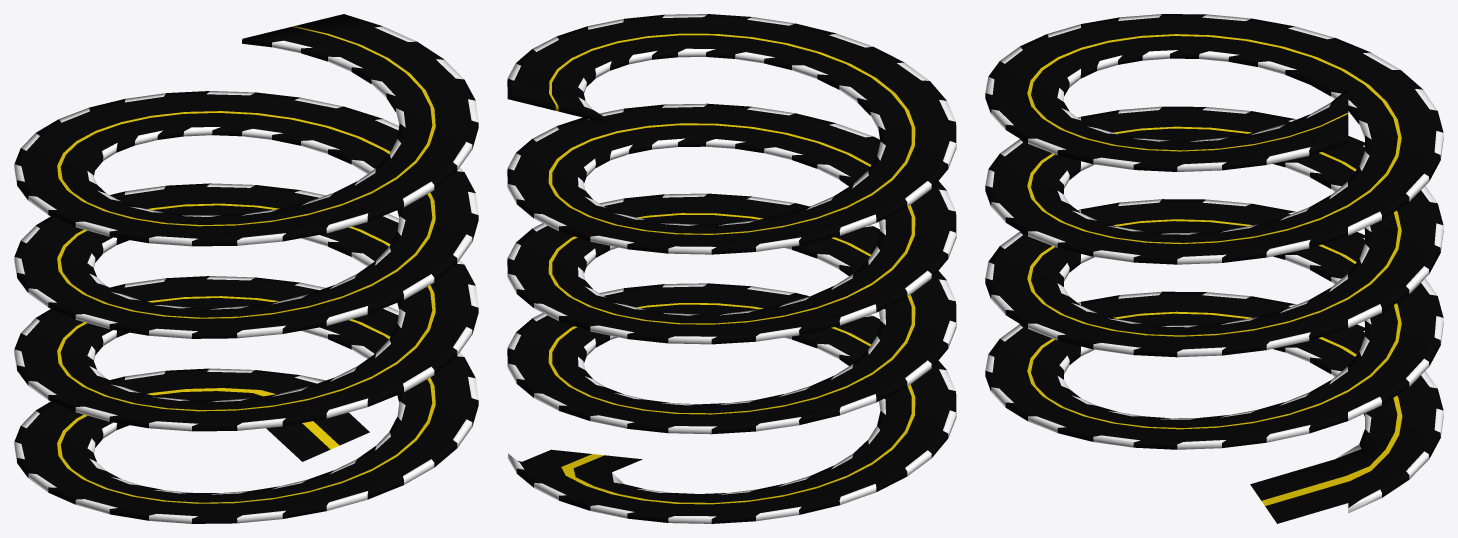
Rendered from ramp.fbx.
3 renders of one model, left to right at view 1: azimuth 30°, elevation 25°; view 2: azimuth 150°, elevation 25°; view 3: azimuth 270°, elevation 25°, orthographic. The views are drawn at different scales.
Visible parts, largest first — view 1: Plane; view 2: Plane; view 3: Plane.
Part boxes in pixels (x1,y1,x2,y2): Plane: (14, 14, 478, 523); Plane: (507, 14, 956, 523); Plane: (985, 14, 1443, 523).
Bounding box in the file's own units: 1096 × 1011 × 1076.
